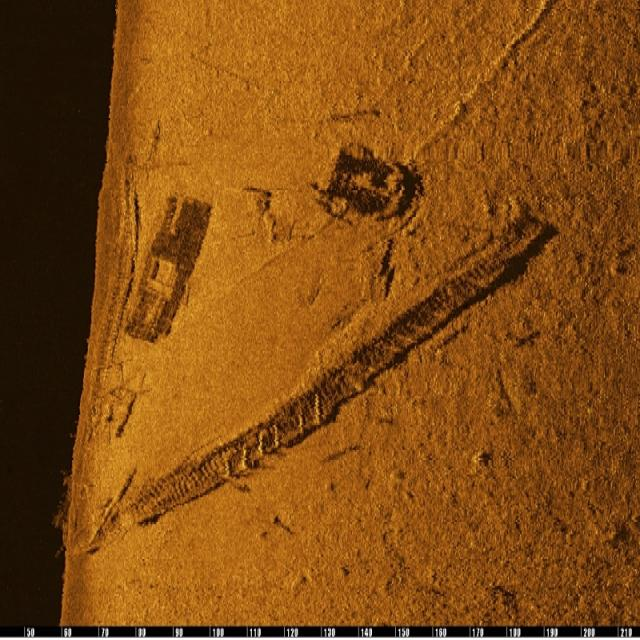ship: (131, 218, 543, 522), (124, 191, 210, 342), (314, 144, 425, 223)
